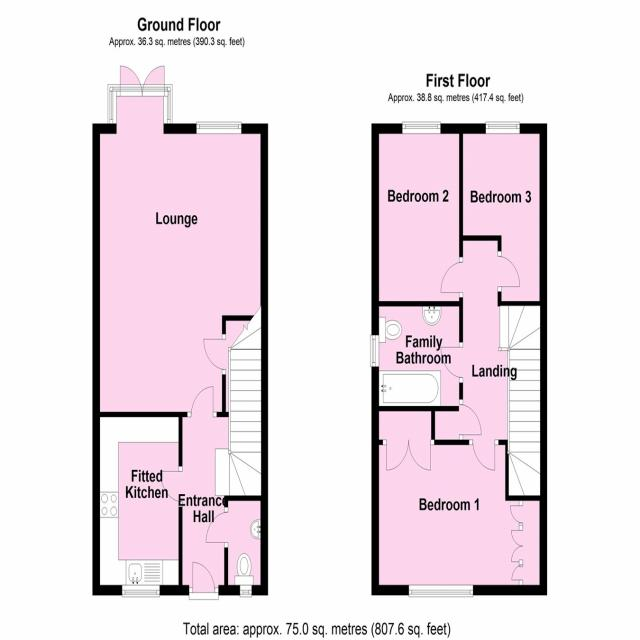DOOR: (189, 562, 219, 600), (202, 333, 226, 376), (468, 439, 499, 472), (205, 506, 229, 548), (440, 341, 463, 384), (160, 465, 183, 508), (440, 256, 463, 298), (497, 250, 520, 292), (187, 386, 217, 417)
DOUBLE DOOR: (381, 439, 436, 473)
ROOM: (92, 83, 268, 418), (371, 406, 547, 598), (371, 121, 463, 307), (92, 411, 183, 598), (459, 121, 547, 306)
WINDOW: (107, 83, 173, 125), (408, 584, 474, 598), (196, 121, 242, 135), (401, 121, 441, 135), (122, 584, 160, 598), (485, 121, 521, 135), (370, 334, 379, 368), (239, 584, 253, 598)
